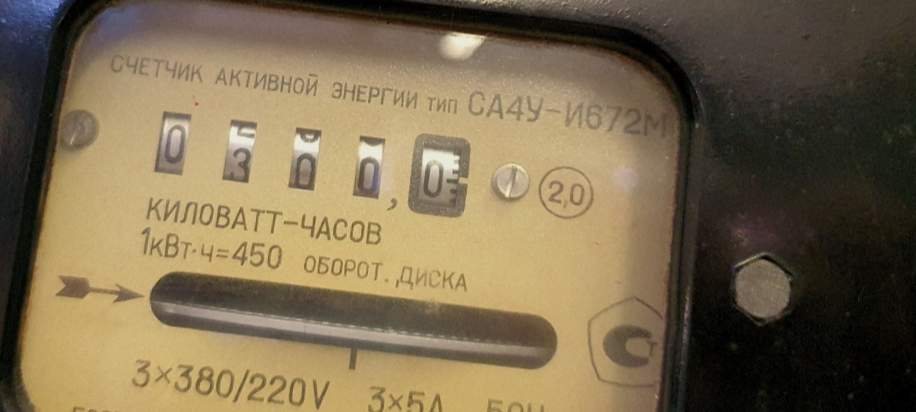0: (351, 154, 381, 200), (415, 157, 445, 202), (158, 120, 186, 168), (288, 150, 315, 193)
3: (224, 144, 251, 185)
screen: (128, 86, 491, 238)
